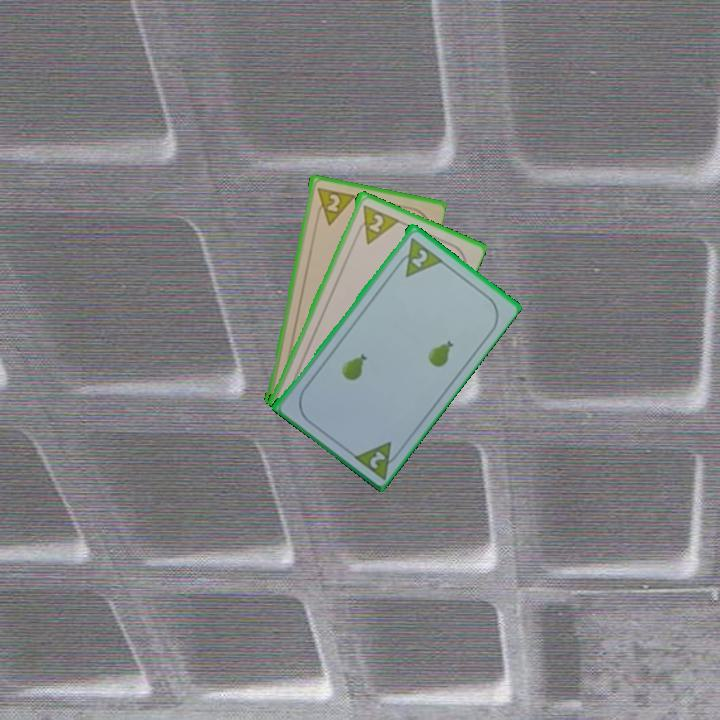2p: (352, 201, 400, 247), (313, 184, 356, 227), (407, 245, 431, 270), (366, 447, 388, 471)
